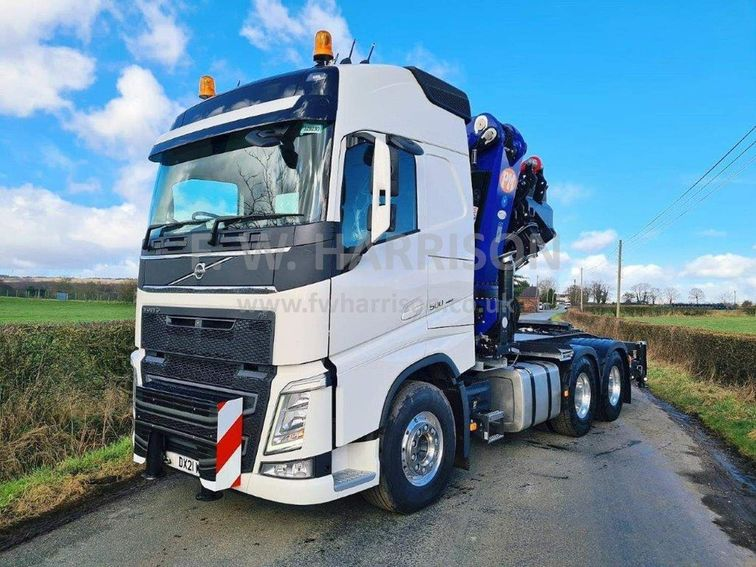Semi: (130, 31, 648, 516)
